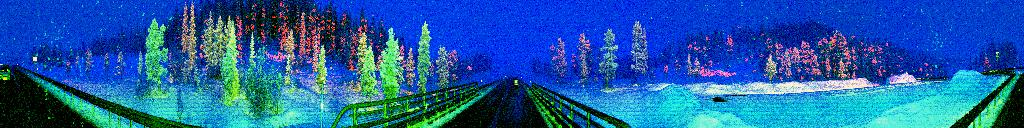pole: (320, 81, 326, 128)
